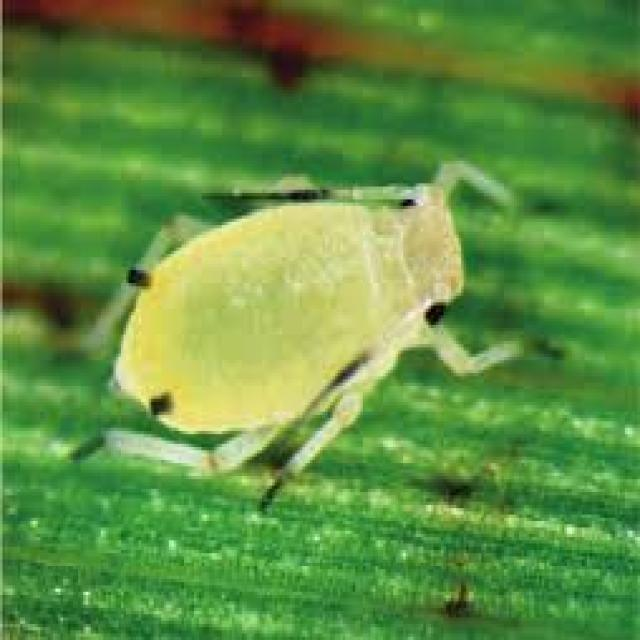Aphids: (62, 103, 559, 520)
